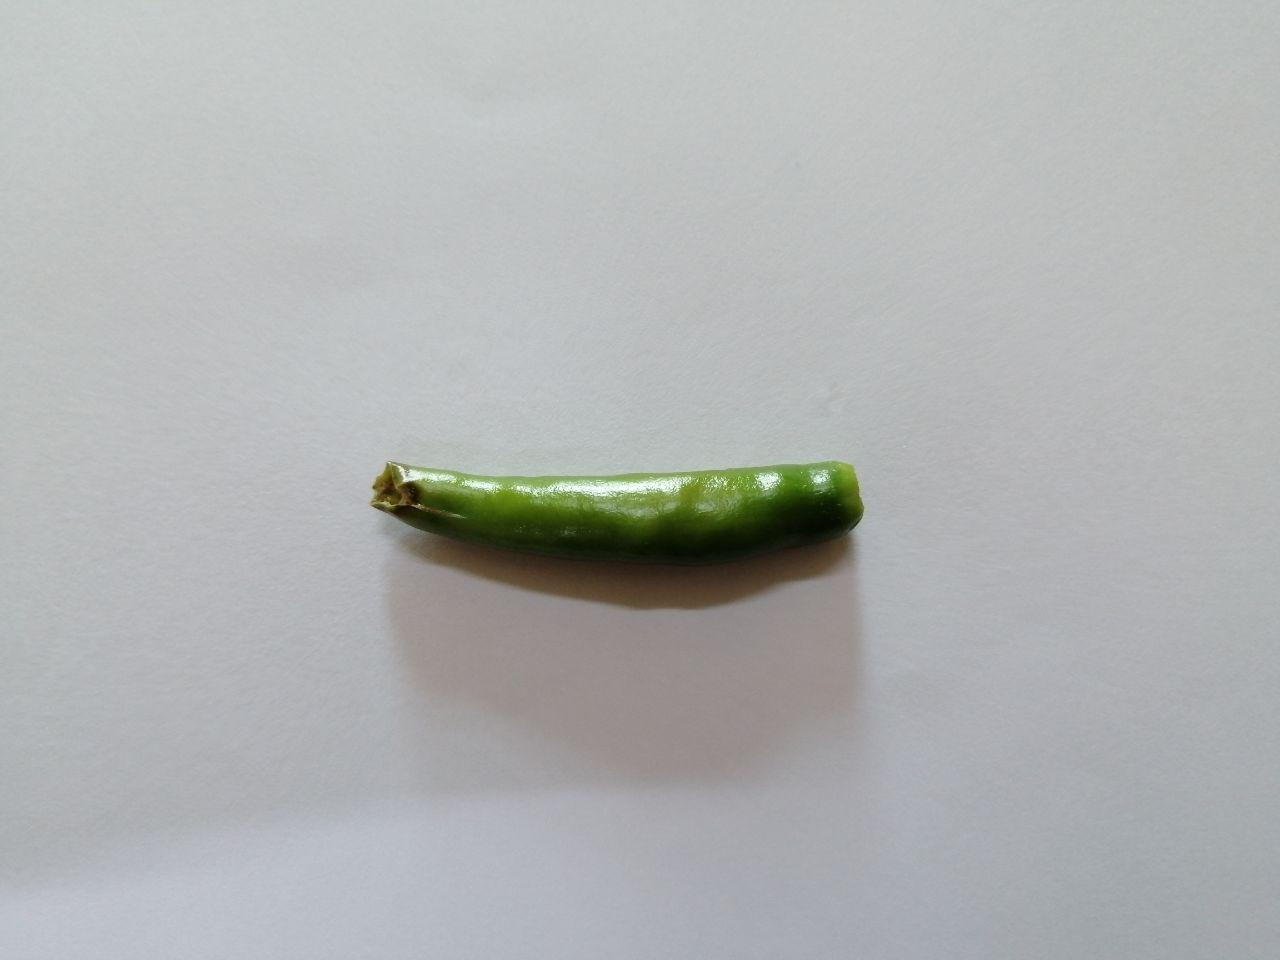lada hijau: (362, 439, 878, 577)
